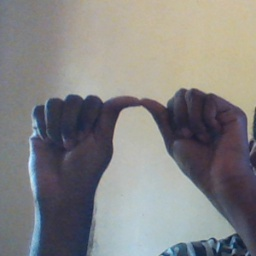A: (29, 87, 251, 201)
